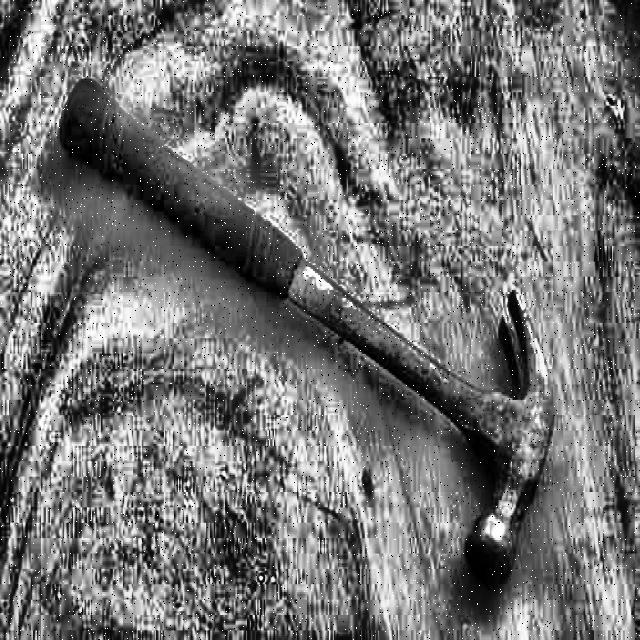hammer: (58, 72, 556, 592)
